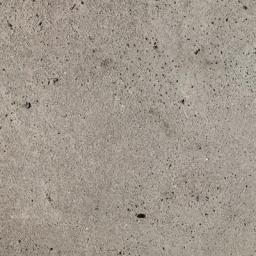FOD: (135, 212, 153, 221)
